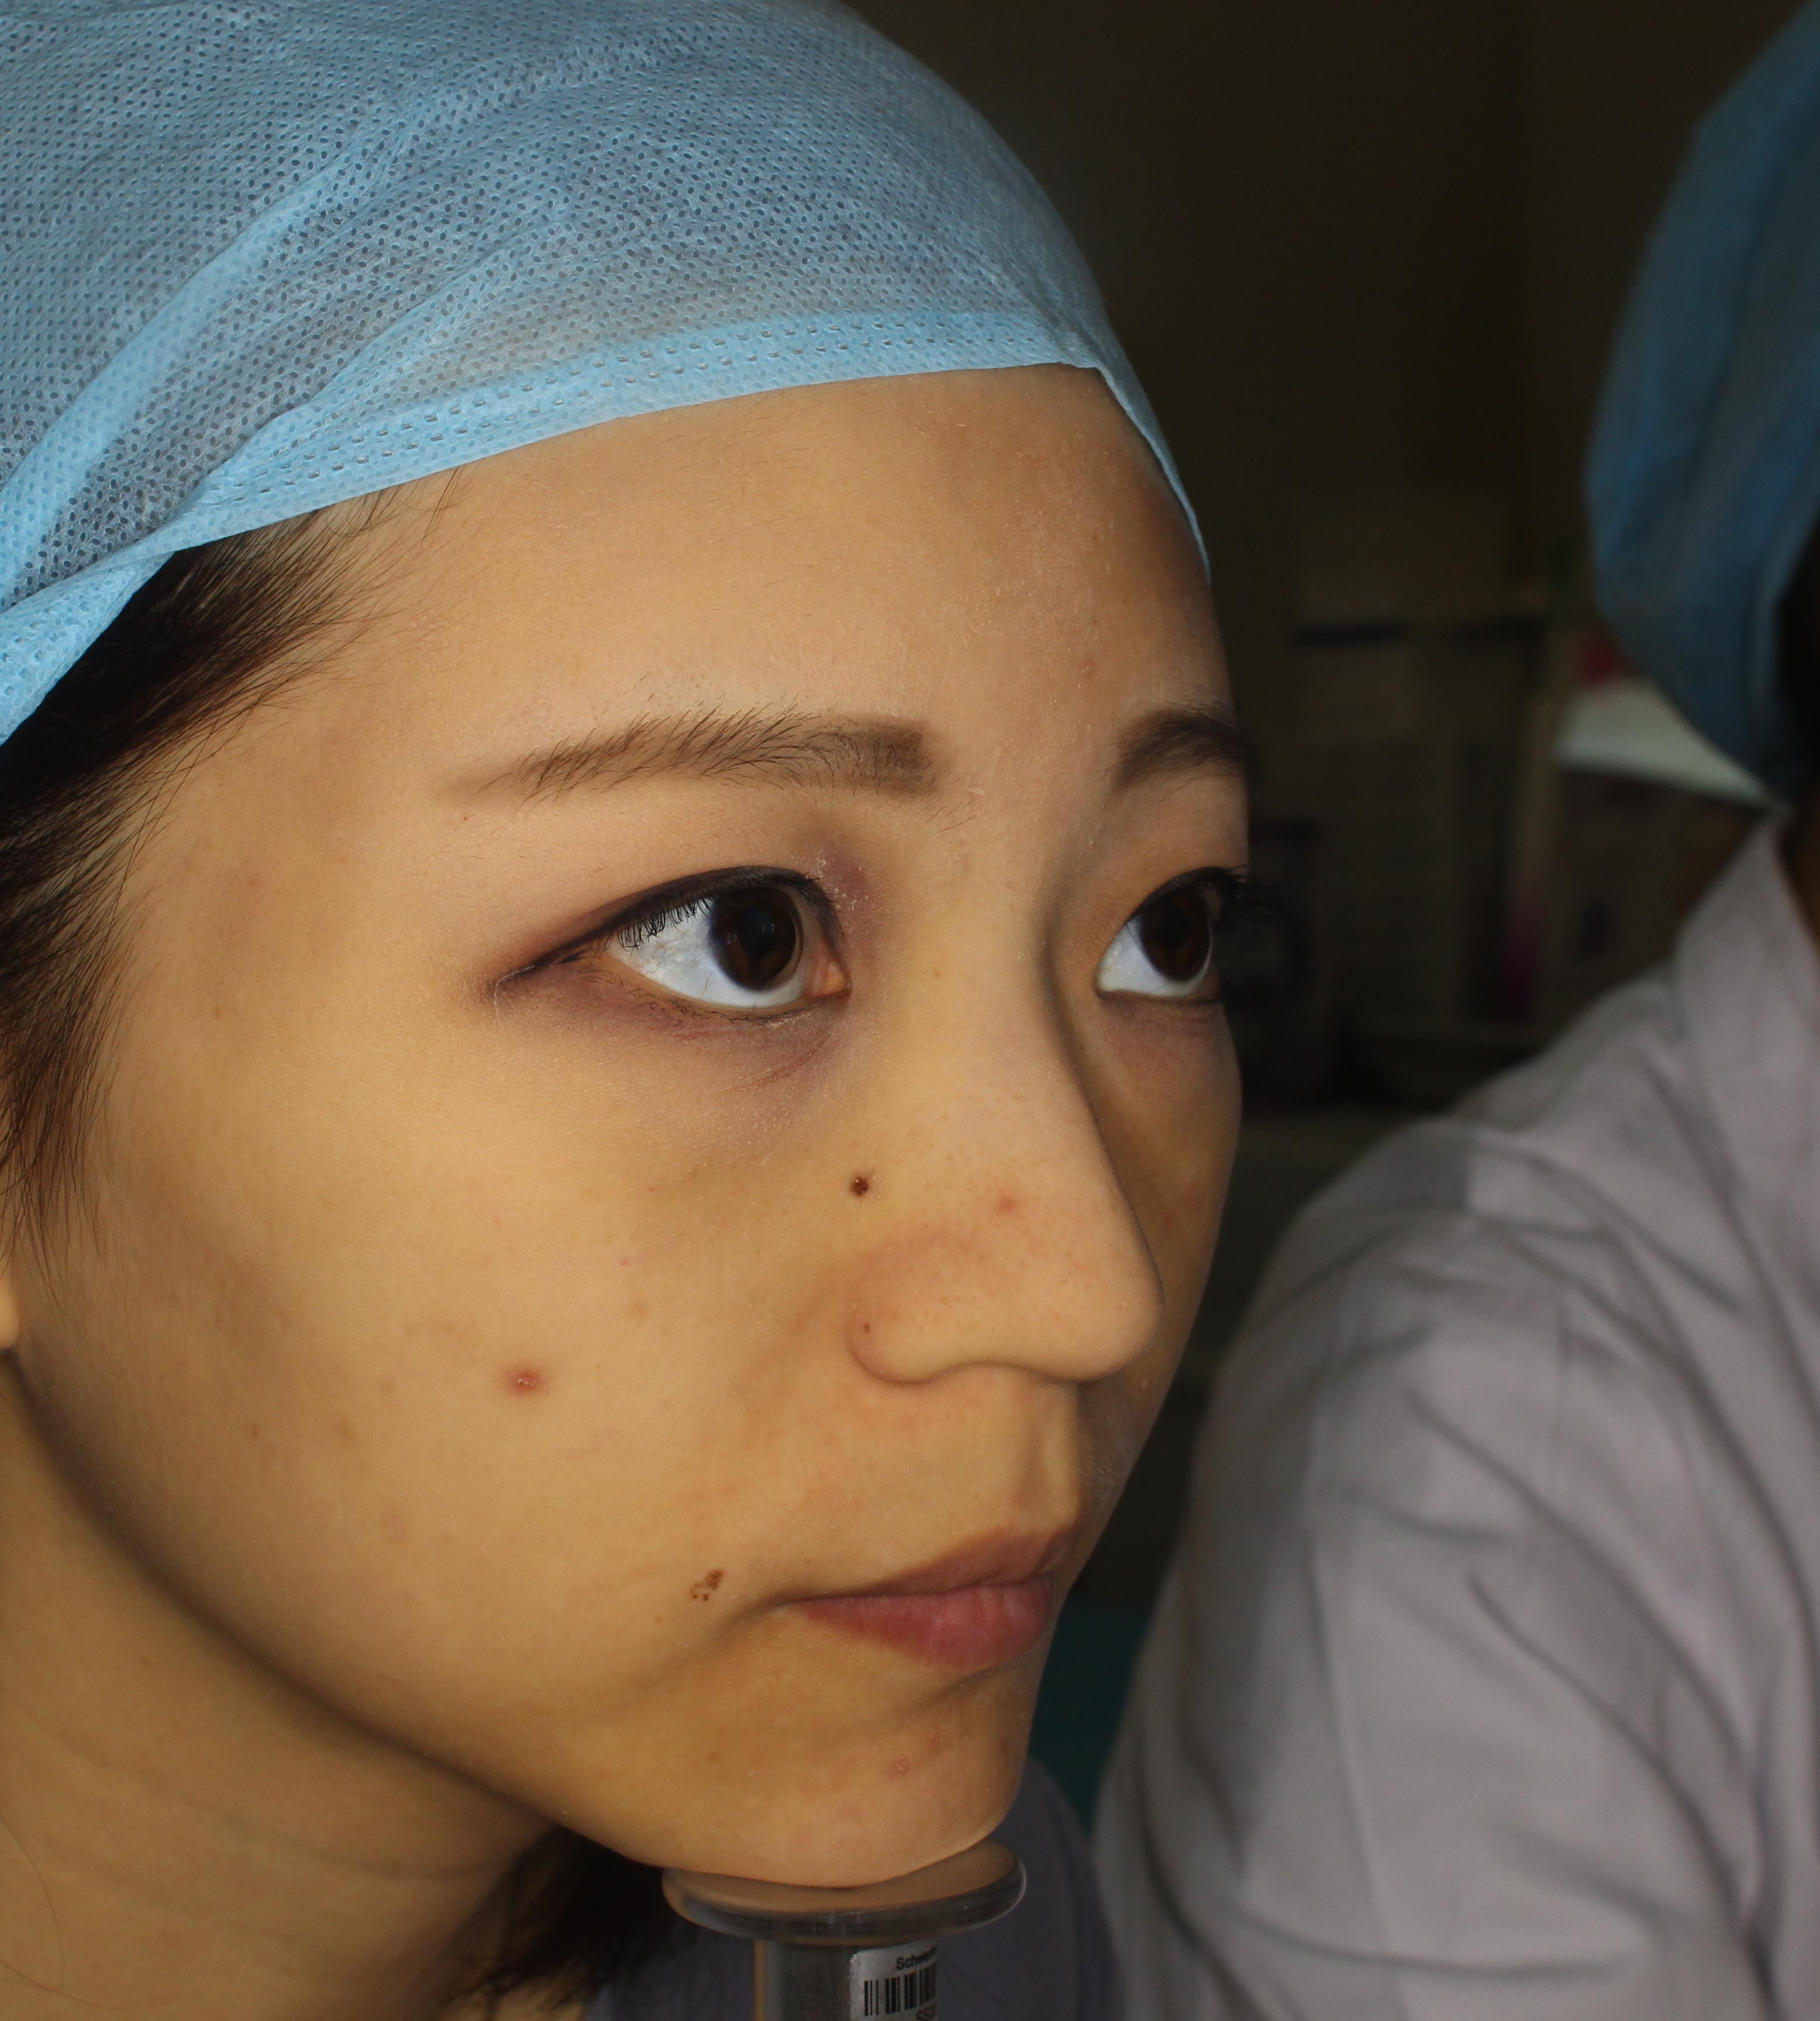fore: (499, 1334, 580, 1419)
